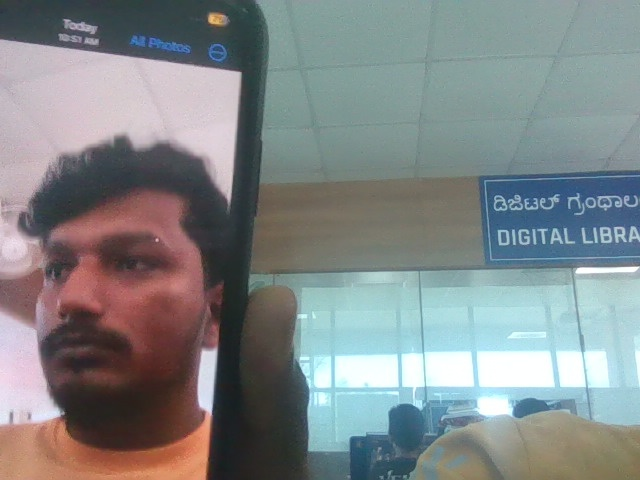fake: (6, 107, 234, 430)
